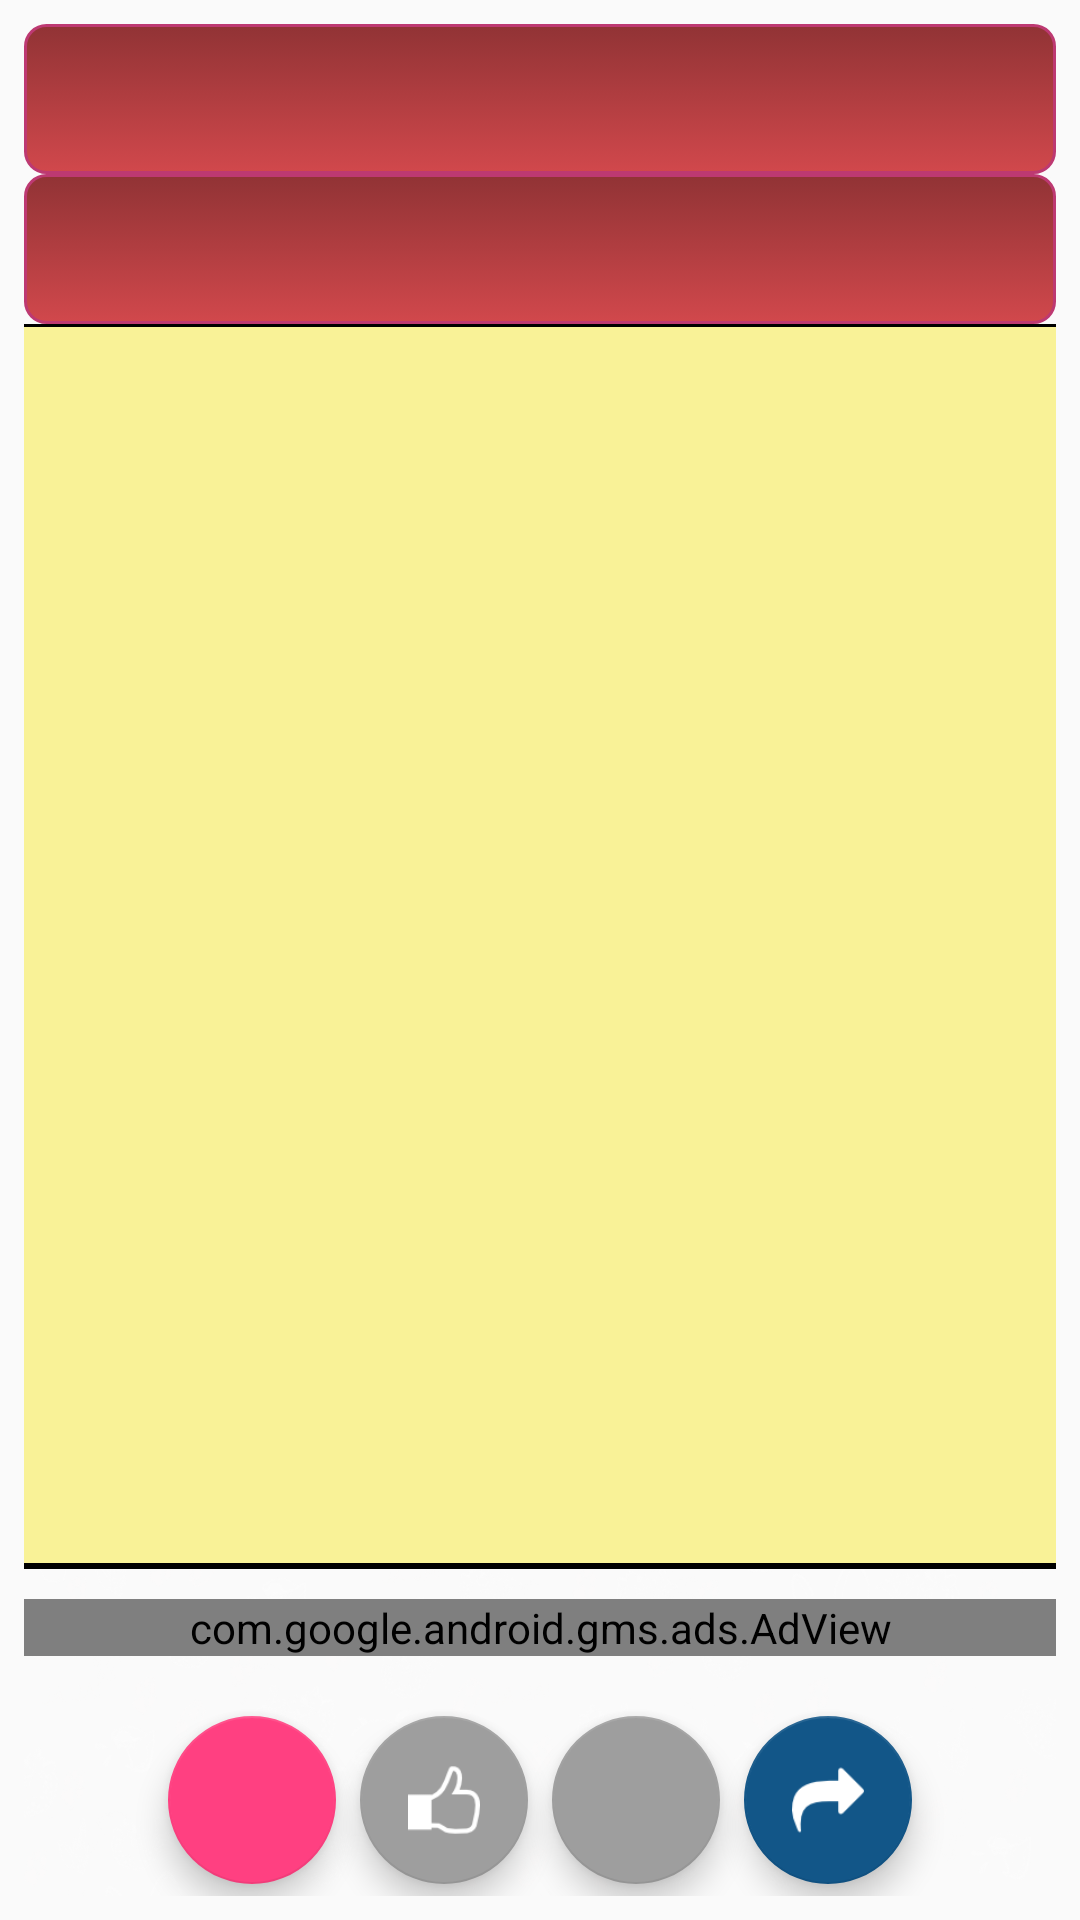

Point at icon controls on the screen. Image size 1080 × 1920, points as [x,y].
like: [444,1800]
next: [828,1800]
